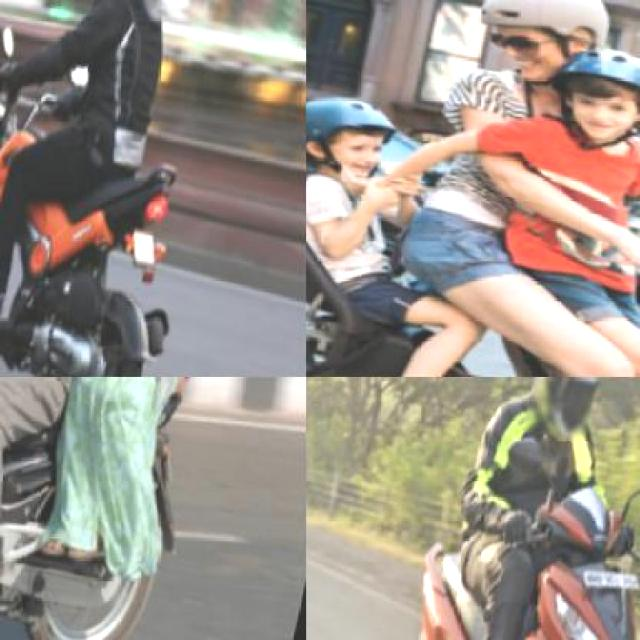With Helmet: (468, 0, 624, 68), (306, 82, 402, 185), (548, 37, 638, 131), (523, 377, 611, 441)
